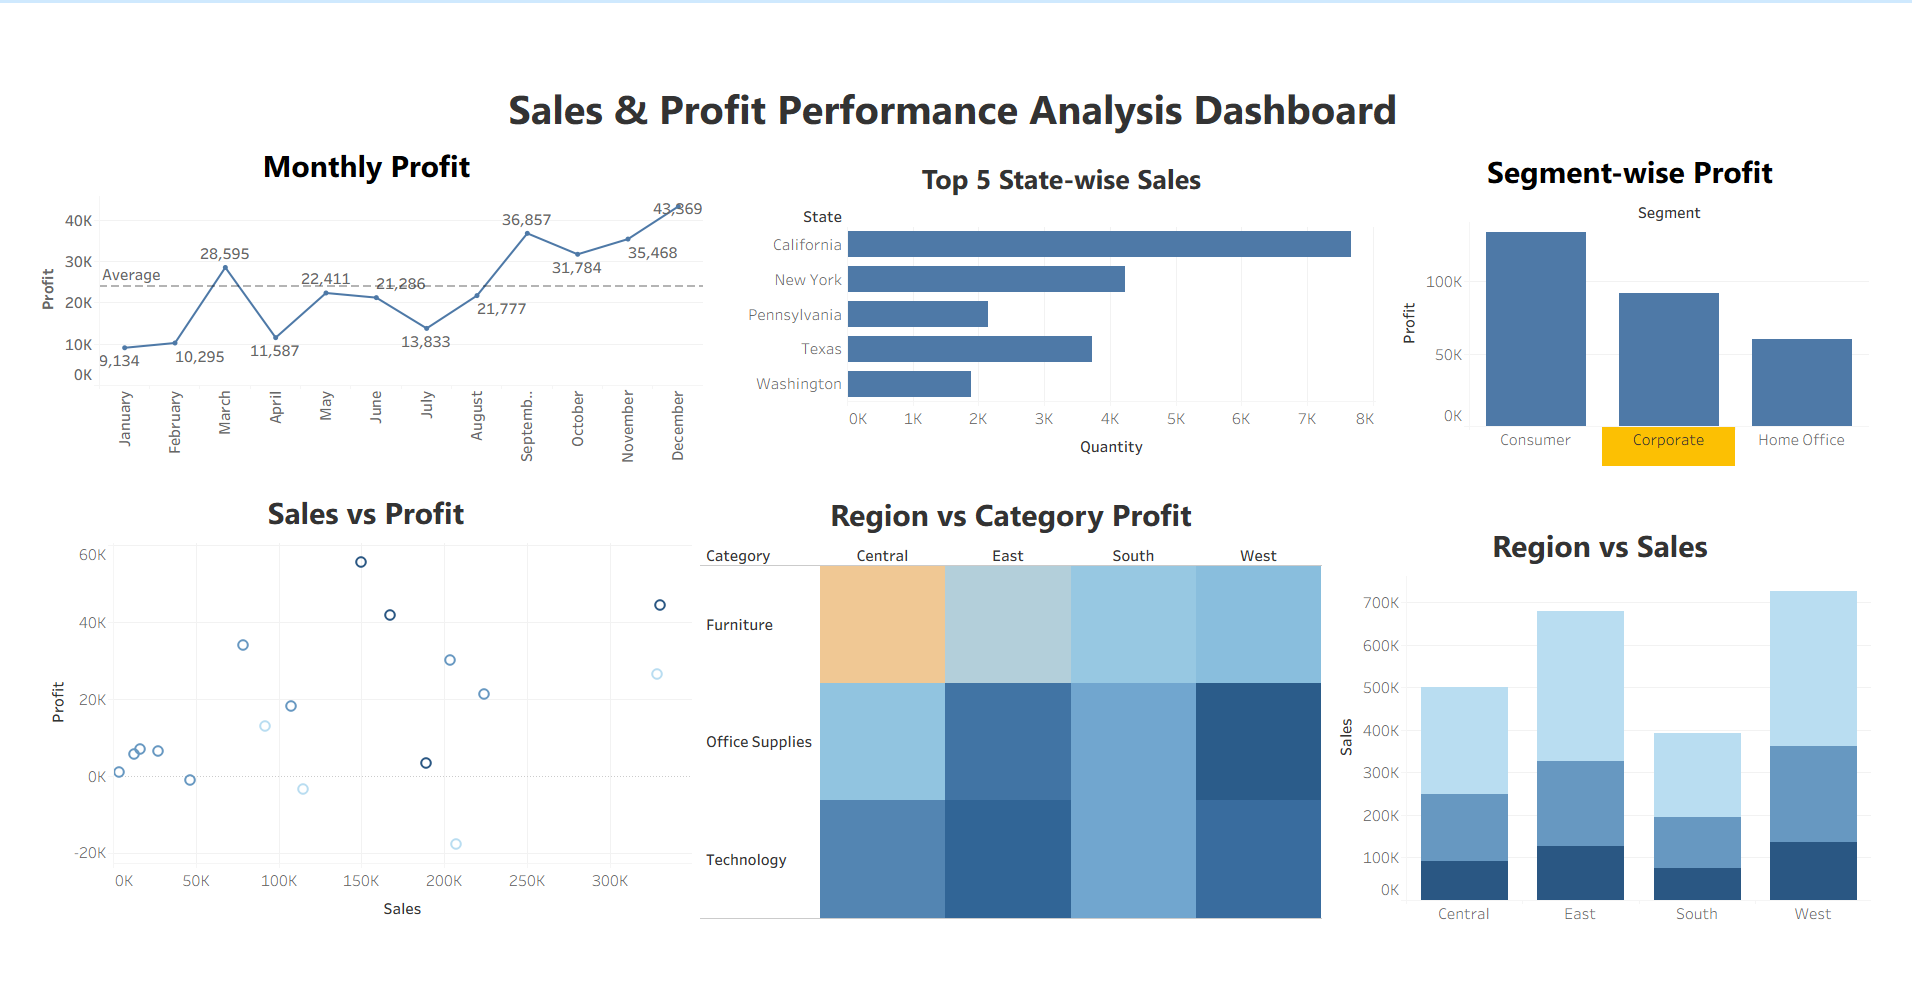

This screenshot's page, from the dashboard's own definition file:
{"tool":"tableau","page":{"name":"Sales & Profit Performance Analysis Dashboard","canvas":[1000,1000],"units":"permille","ordinal":0},"visuals":[{"type":"title","box":[4.8,10,990.3,77.4]},{"type":"worksheet","title":"Monthly Profit","mark":"Line","rows":["Profit"],"cols":["Order Date"],"box":[1.2,83.7,363.9,375.8]},{"type":"worksheet","title":"Segment-wise Profit","mark":"Automatic","rows":["Profit"],"cols":["Segment"],"box":[736.9,91.1,258.3,370.8]},{"type":"worksheet","title":"Top 5 State-wise Sales","mark":"Automatic","rows":["State"],"cols":["Quantity"],"box":[388.7,101.1,339.8,358.3]},{"type":"worksheet","title":"Sales vs Profit","mark":"Automatic","rows":["Profit"],"cols":["Sales"],"box":[6.6,486.9,352.4,509.4]},{"type":"worksheet","title":"Region vs Category Profit","mark":"Automatic","rows":["Category"],"cols":["Region"],"box":[363.3,489.4,336.2,499.4]},{"type":"worksheet","title":"Region vs Sales","mark":"Automatic","rows":["Sales"],"cols":["Region"],"box":[702.5,525.6,293.9,469.4]}]}

Visuals, with their boxes on the dashboard's canvas, which has no fixed pixel size, in thousandths of its width and height (x1, y1, x2, y2). These are canvas units, not pixel positions in the 1912x995 screenshot, which may show the page scaled, cropped or inside an application window:
title: (5,10,995,87)
"Monthly Profit" worksheet (Line marks): (1,84,365,460)
"Segment-wise Profit" worksheet: (737,91,995,462)
"Top 5 State-wise Sales" worksheet: (389,101,728,459)
"Sales vs Profit" worksheet: (7,487,359,996)
"Region vs Category Profit" worksheet: (363,489,700,989)
"Region vs Sales" worksheet: (702,526,996,995)
